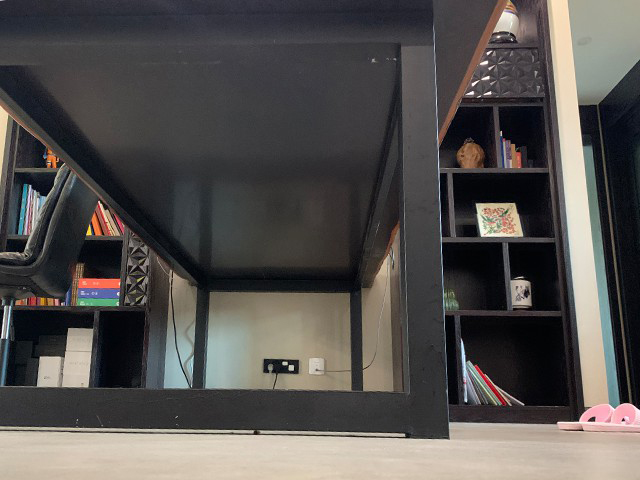cabinet: (438, 1, 584, 423)
slippers: (583, 402, 640, 431), (555, 401, 612, 430)
stool: (1, 160, 97, 386)
table: (1, 1, 507, 438)
wire: (258, 354, 352, 387)
